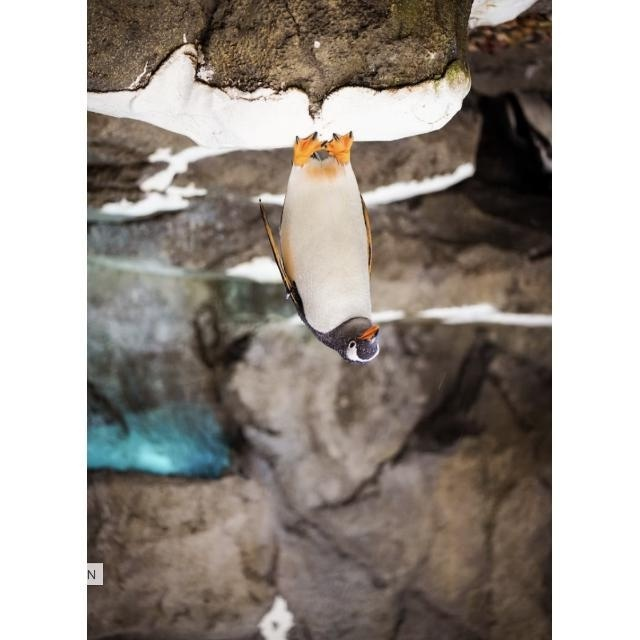penguin: (261, 128, 382, 364)
